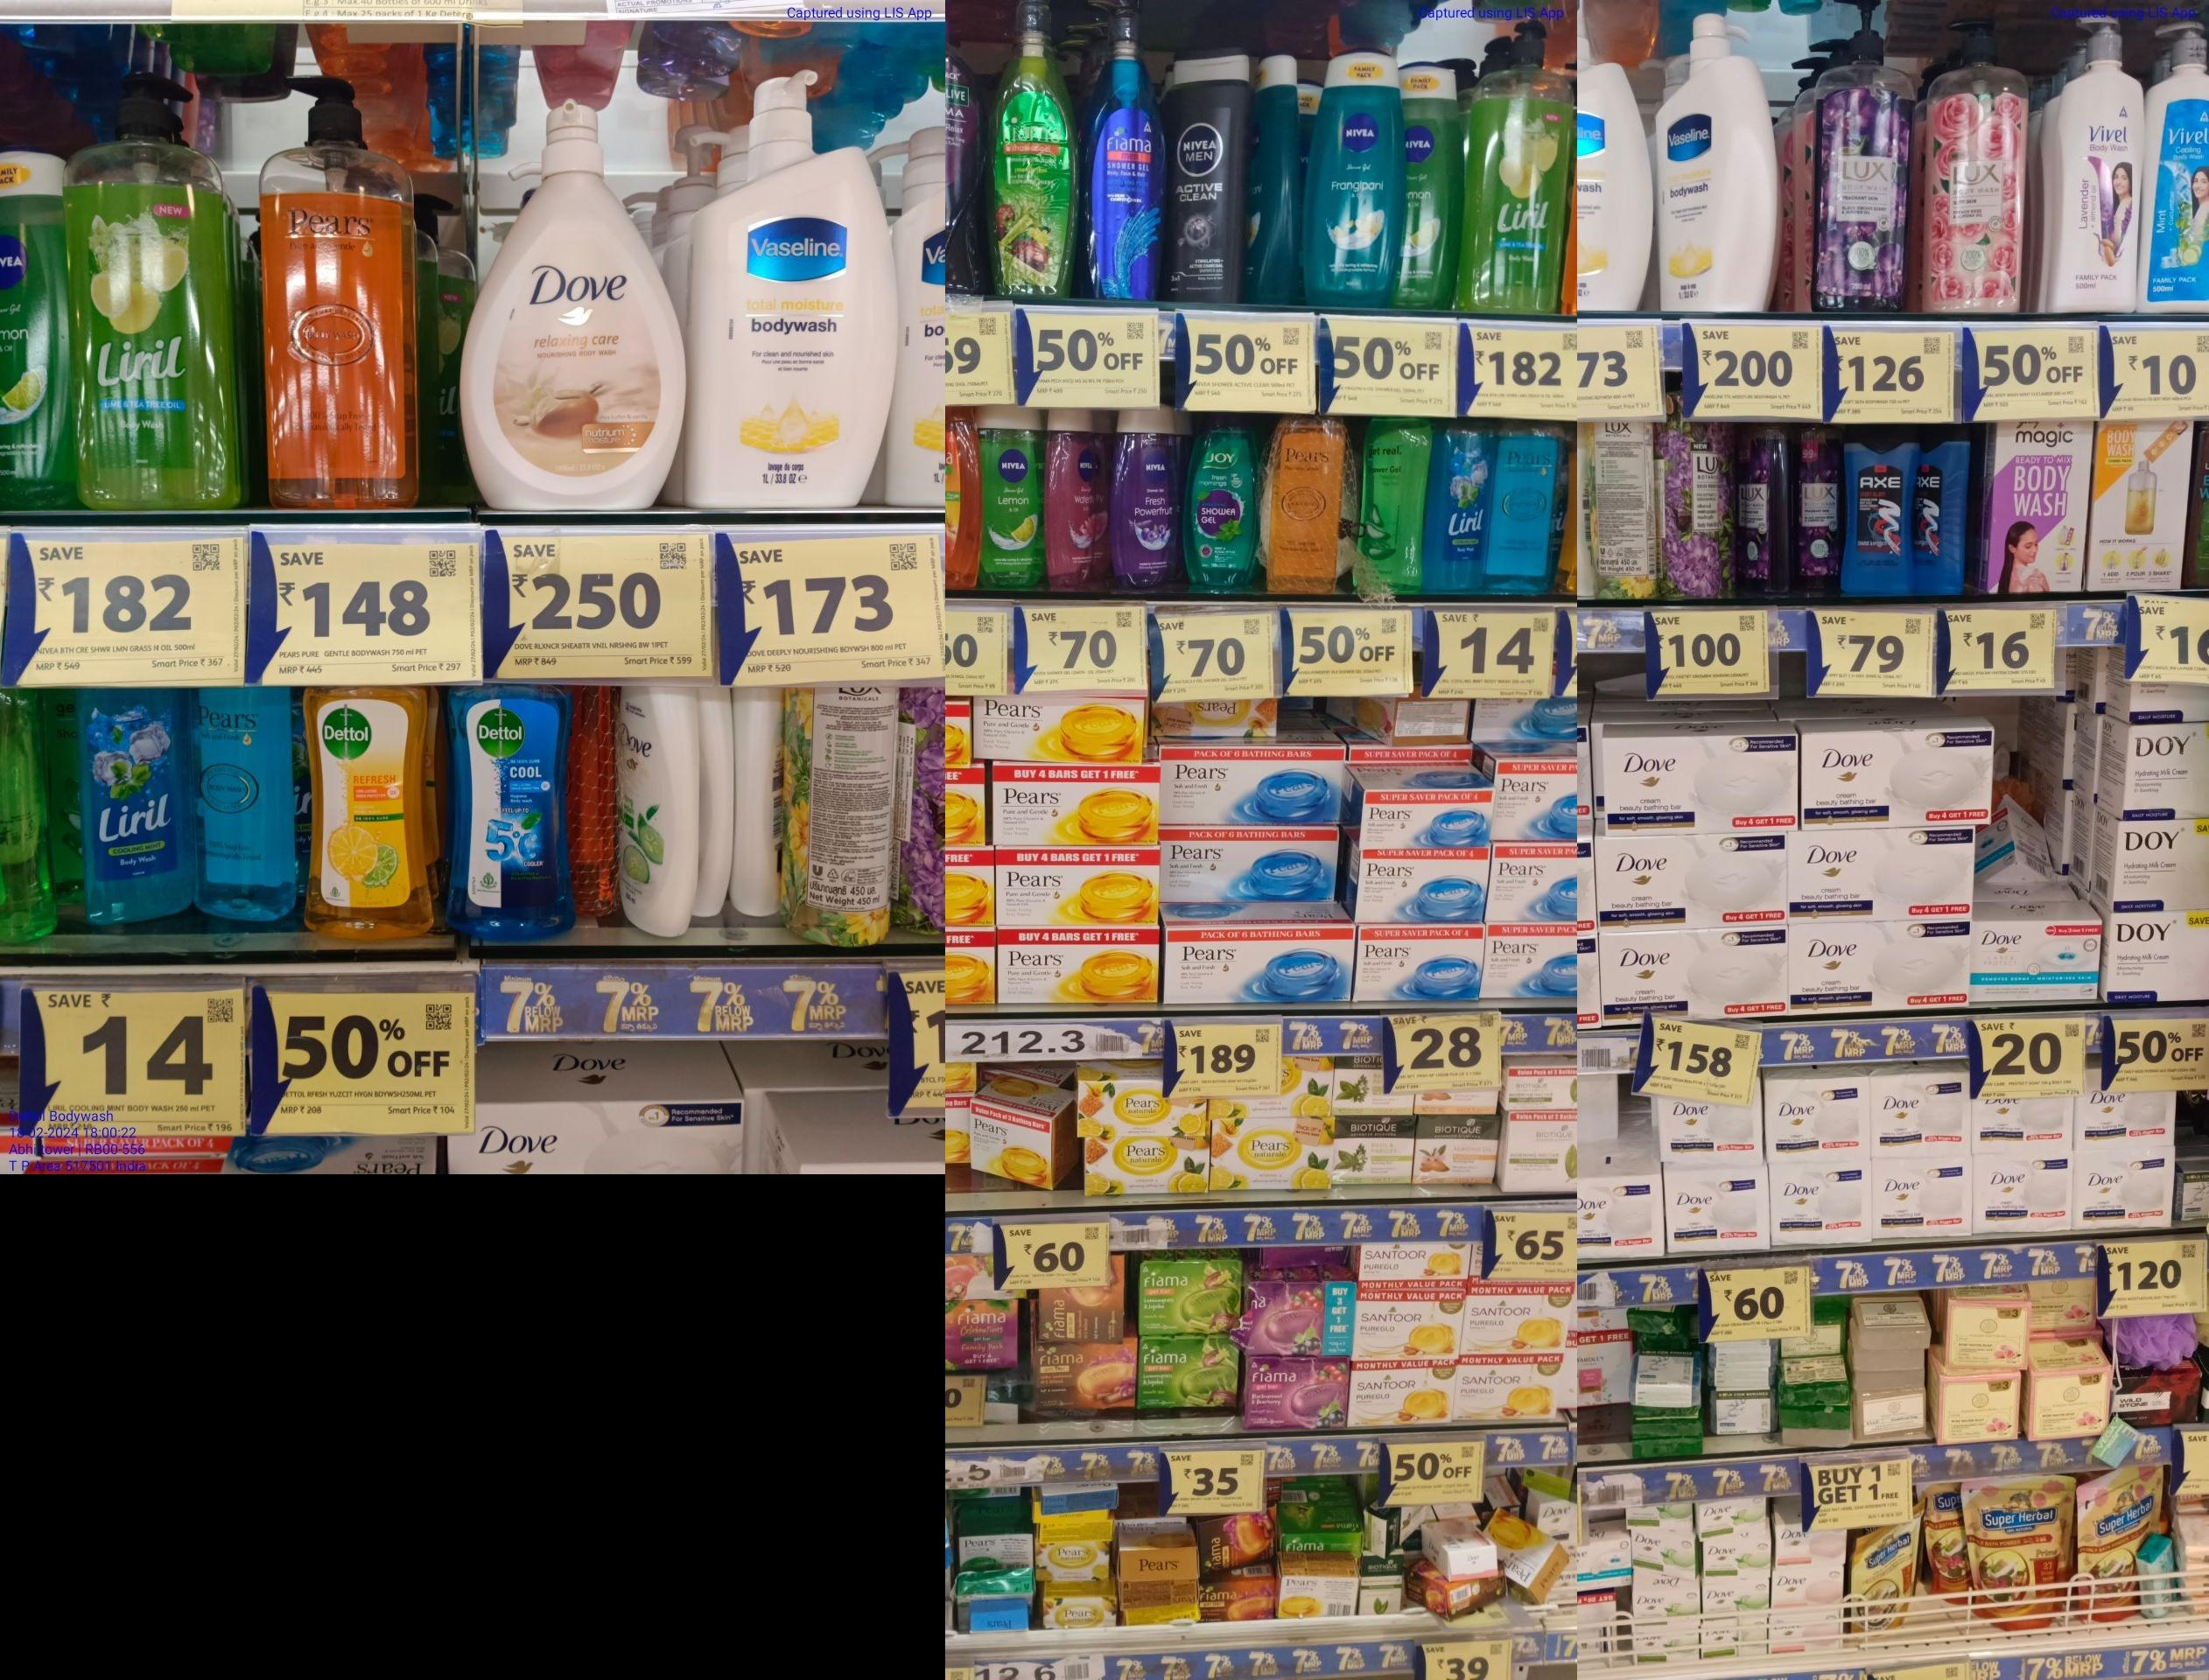Dettol_Bodywash_Cool: (452, 678, 572, 942)
Dettol_Bodywash_Refresh: (311, 685, 438, 941)
Joy_Shower_Gel_Mint_and_Eucalyptus_250ML: (1187, 411, 1254, 596)
Liril_Cooling_Mint_Body_Wash_250ML: (71, 686, 196, 932), (1433, 422, 1482, 596)
Nivea_Shower_Gel_Frangipani_and_Oil_250ML: (1300, 55, 1396, 300)
Nivea_Shower_Gel_Lemon_and_Oil_250ML: (1396, 60, 1459, 305), (972, 406, 1050, 593)
Nivea_Shower_Gel_Waterlily_and_Oil_250ML: (1113, 408, 1186, 582), (1052, 409, 1106, 591)
Pears_Pure_Glycerin_and_Mint_Extracts_Body_Wash_250ML: (205, 681, 300, 930), (1493, 429, 1556, 593)
